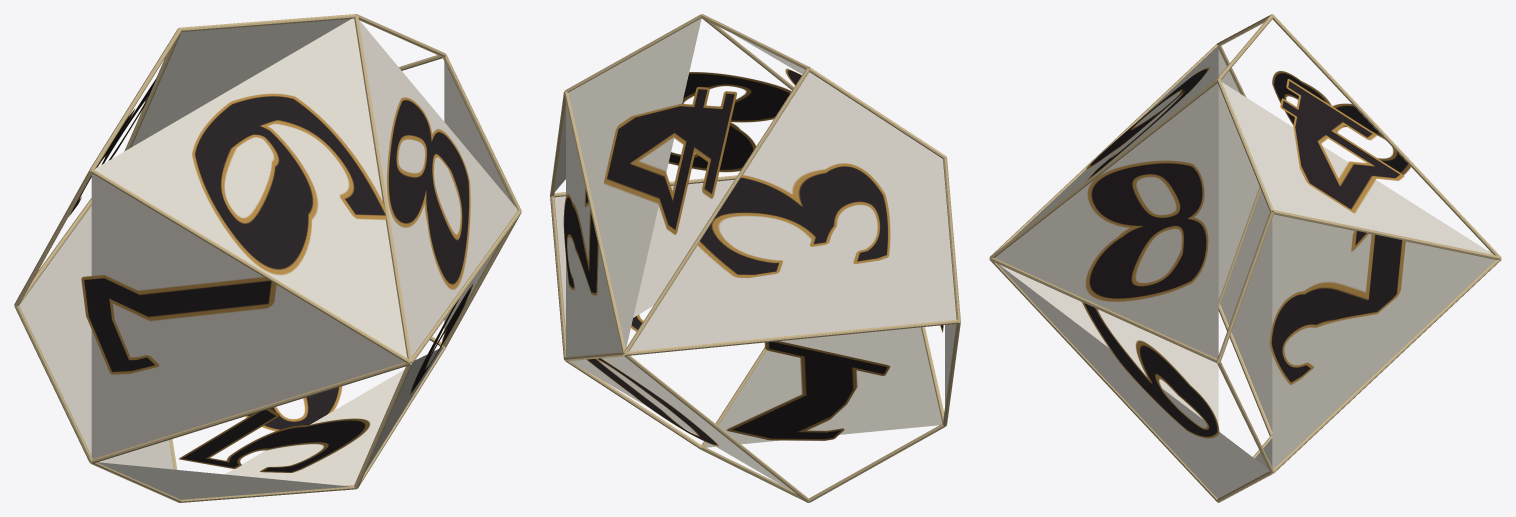
The picture shows the model from 3 angles, left to right: view 1: azimuth 30°, elevation 25°; view 2: azimuth 150°, elevation 25°; view 3: azimuth 270°, elevation 25°; orthographic projection. The views are drawn at different scales.
Parts seen in each view (by area): view 1: DiceBody, FaceLabel_7_9, GoldEdgeTrim, FaceLabel_8_8, FaceLabel_5_7, FaceLabel_3_5, FaceLabel_1_0, FaceLabel_0_6, FaceLabel_6_3; view 2: DiceBody, GoldEdgeTrim, FaceLabel_6_3, FaceLabel_9_4, FaceLabel_2_1, FaceLabel_8_8, FaceLabel_4_2, FaceLabel_1_0; view 3: DiceBody, GoldEdgeTrim, FaceLabel_8_8, FaceLabel_4_2, FaceLabel_9_4, FaceLabel_0_6, FaceLabel_6_3, FaceLabel_7_9.
Boxes of the visible parts, <box> form: DiceBody: <box>19,18,517,499</box>; FaceLabel_7_9: <box>192,93,386,274</box>; GoldEdgeTrim: <box>14,14,521,502</box>; FaceLabel_8_8: <box>387,97,470,289</box>; FaceLabel_5_7: <box>81,275,276,374</box>; FaceLabel_3_5: <box>179,408,370,472</box>; FaceLabel_1_0: <box>245,386,342,431</box>; FaceLabel_0_6: <box>410,283,473,394</box>; FaceLabel_6_3: <box>69,77,156,216</box>; DiceBody: <box>554,18,956,492</box>; GoldEdgeTrim: <box>550,14,960,502</box>; FaceLabel_6_3: <box>697,163,890,277</box>; FaceLabel_9_4: <box>604,87,736,234</box>; FaceLabel_2_1: <box>727,341,890,440</box>; FaceLabel_8_8: <box>668,72,791,172</box>; FaceLabel_4_2: <box>563,188,598,295</box>; FaceLabel_1_0: <box>586,358,718,445</box>; DiceBody: <box>995,45,1495,498</box>; GoldEdgeTrim: <box>989,14,1501,502</box>; FaceLabel_8_8: <box>1085,160,1208,301</box>; FaceLabel_4_2: <box>1269,230,1405,384</box>; FaceLabel_9_4: <box>1280,79,1404,213</box>; FaceLabel_0_6: <box>1082,302,1219,438</box>; FaceLabel_6_3: <box>1272,71,1410,175</box>; FaceLabel_7_9: <box>1086,67,1209,180</box>.
Size of the model in its own units: 1.93 by 1.84 by 2.01.
10 materials, 10 textured.
